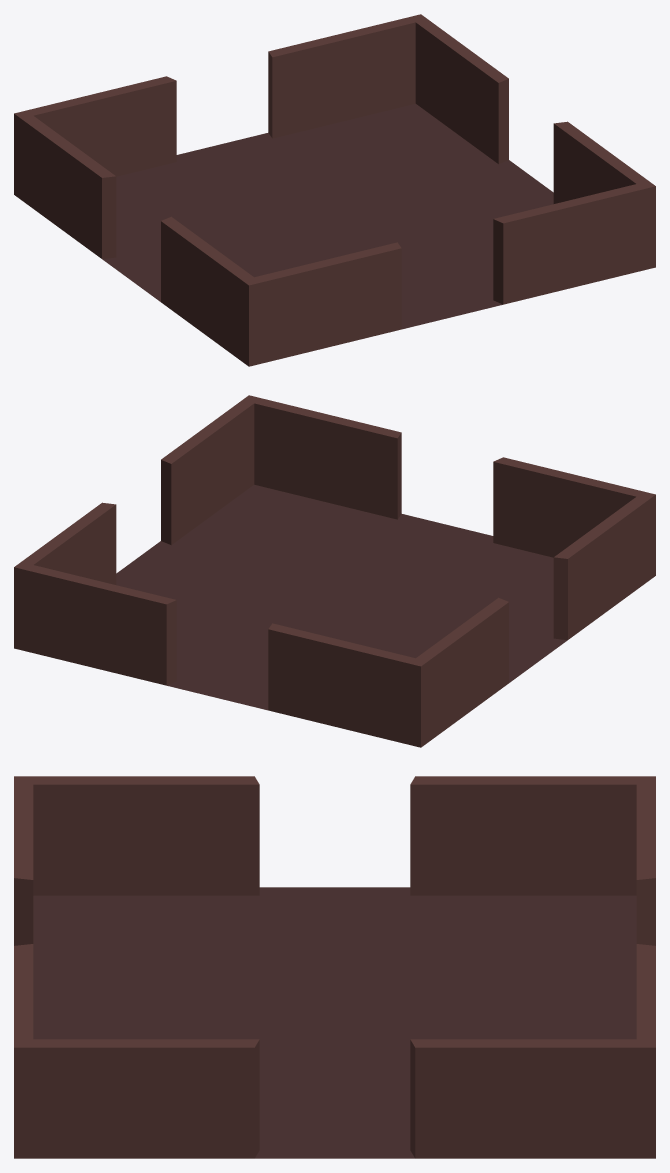
File: 4WayDirtRoom.fbx
The picture shows the model from 3 angles, top to bottom: view 1: azimuth 30°, elevation 25°; view 2: azimuth 150°, elevation 25°; view 3: azimuth 270°, elevation 25°; orthographic projection. The views are drawn at different scales.
Visible parts, largest first — view 1: DirtRoom4wayWall, DirtRoom4wayFloor; view 2: DirtRoom4wayWall, DirtRoom4wayFloor; view 3: DirtRoom4wayWall, DirtRoom4wayFloor.
Boxes of the visible parts, left/top/right/bottom form: DirtRoom4wayWall: left=14, top=14, right=655, bottom=366; DirtRoom4wayFloor: left=102, top=103, right=553, bottom=329; DirtRoom4wayWall: left=14, top=395, right=655, bottom=747; DirtRoom4wayFloor: left=116, top=484, right=567, bottom=710; DirtRoom4wayWall: left=14, top=776, right=655, bottom=1158; DirtRoom4wayFloor: left=33, top=887, right=636, bottom=1158.
Size of the model in its own units: 796 by 152 by 796.
1 material, 1 textured.
